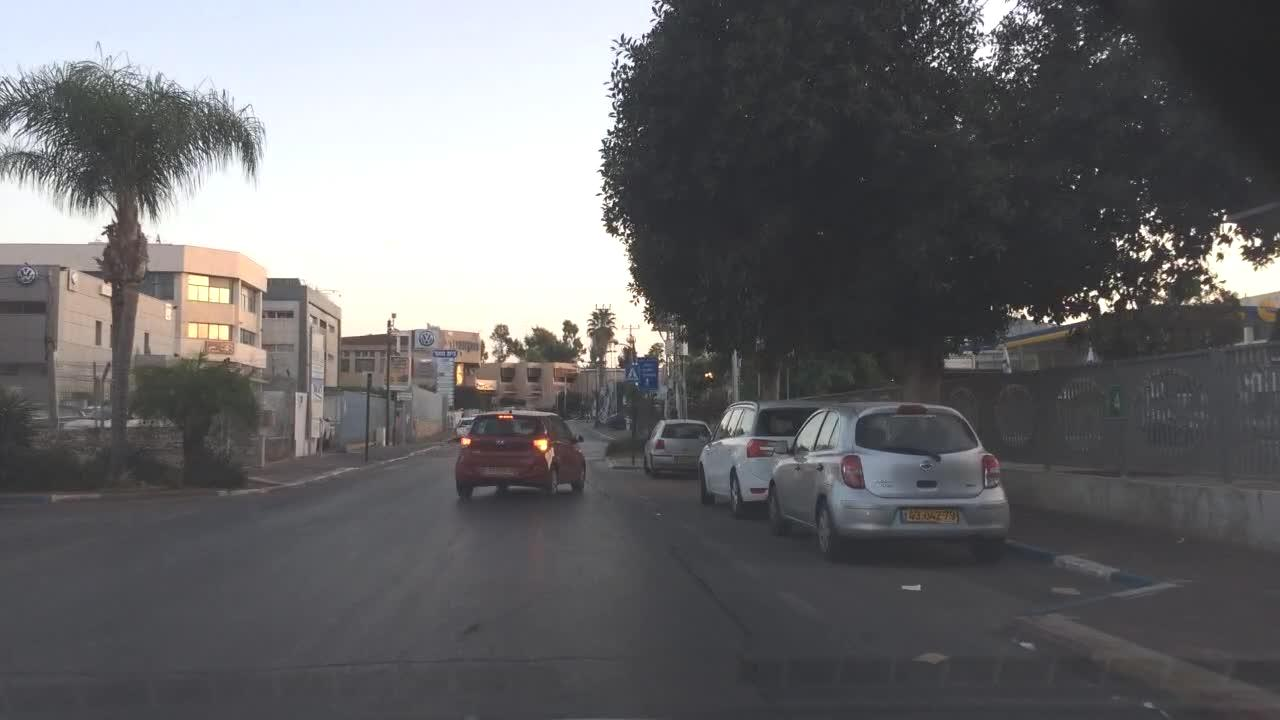Hyundai: (493, 437, 507, 447)
